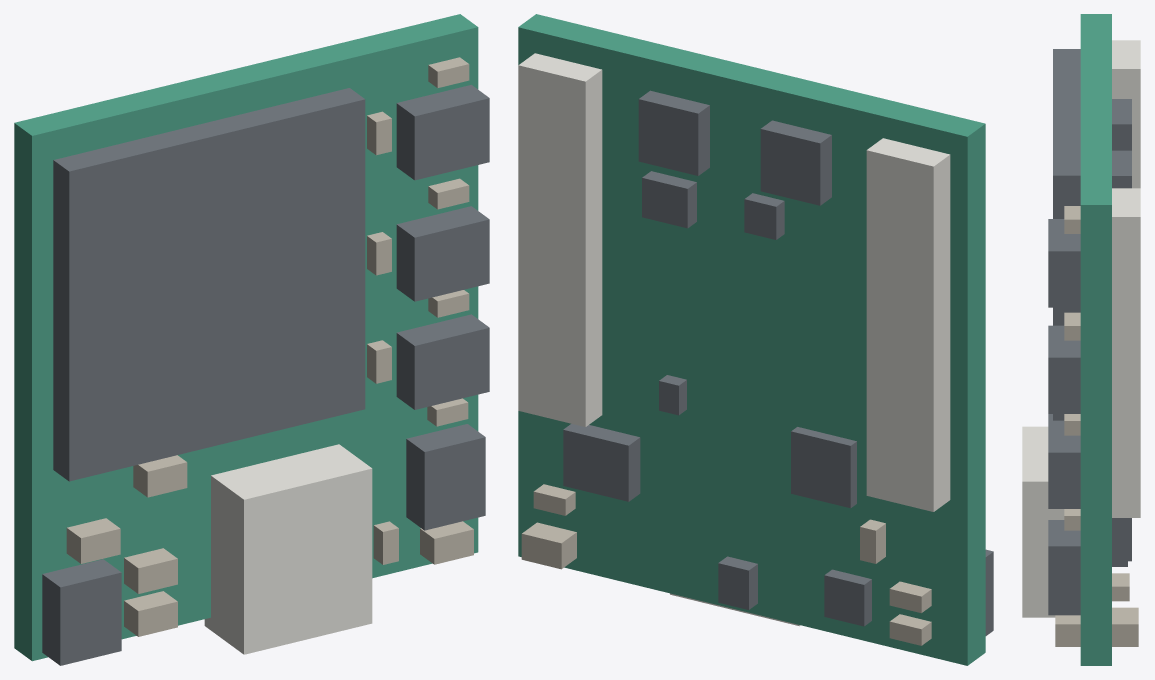
File: Option_B_V3_part_2.glb
The picture shows the model from 3 angles, left to right: view 1: azimuth 30°, elevation 25°; view 2: azimuth 150°, elevation 25°; view 3: azimuth 270°, elevation 25°; orthographic projection. The views are drawn at different scales.
Parts seen in each view (by area): view 1: ic, board, conn, passive; view 2: board, conn, ic, passive; view 3: board, ic, conn, passive.
Part boxes in pixels (x1=…): ic: x1=42, y1=85, x2=489, y2=665; board: x1=14, y1=14, x2=478, y2=661; conn: x1=204, y1=444, x2=372, y2=654; passive: x1=66, y1=57, x2=473, y2=636; board: x1=518, y1=14, x2=985, y2=665; conn: x1=518, y1=53, x2=950, y2=626; ic: x1=563, y1=90, x2=993, y2=635; passive: x1=521, y1=484, x2=931, y2=645; board: x1=1080, y1=14, x2=1111, y2=665; ic: x1=1048, y1=49, x2=1131, y2=615; conn: x1=1022, y1=40, x2=1140, y2=617; passive: x1=1055, y1=206, x2=1138, y2=646.
Bounding box in the file's own units: 22.59 × 26.04 × 5.93.
